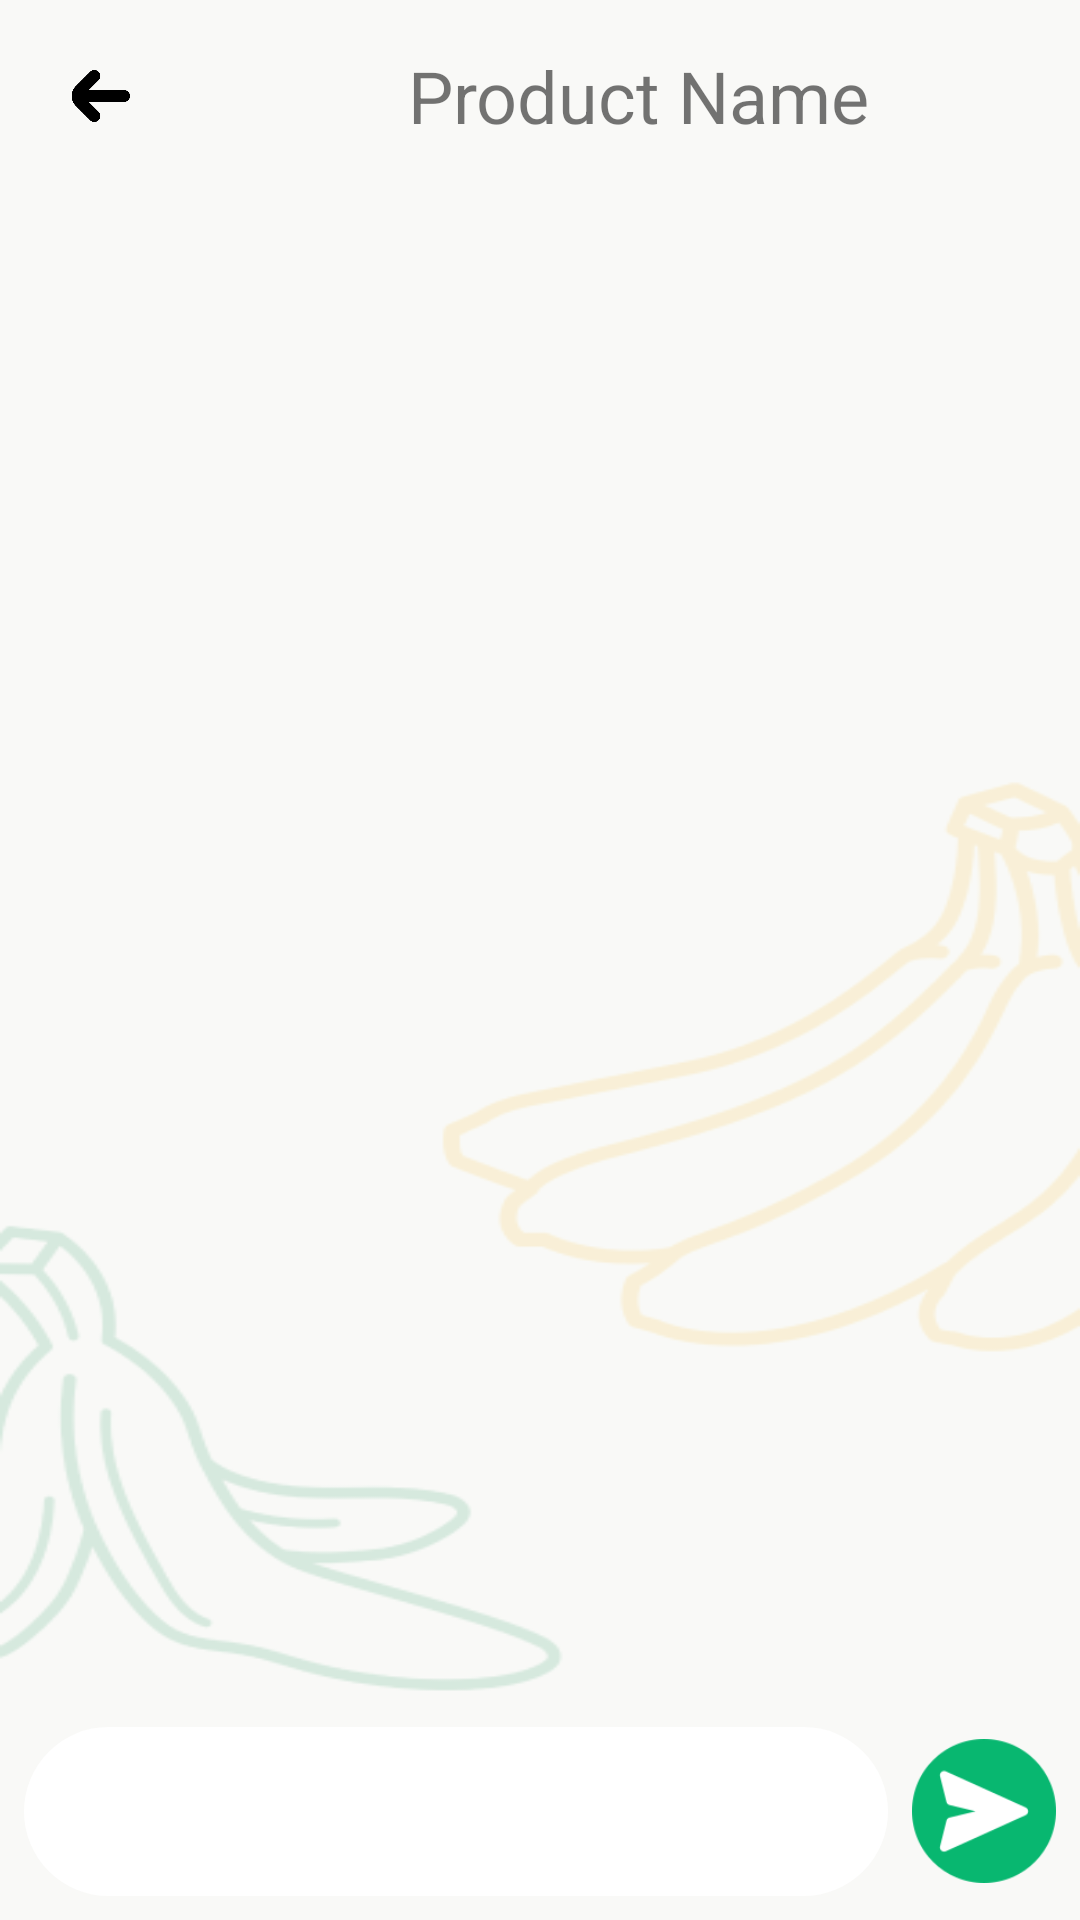

Icon click points for this 1080 × 1920 phone screenshot, format (x,y):
back: (101,96)
send: (984,1811)
